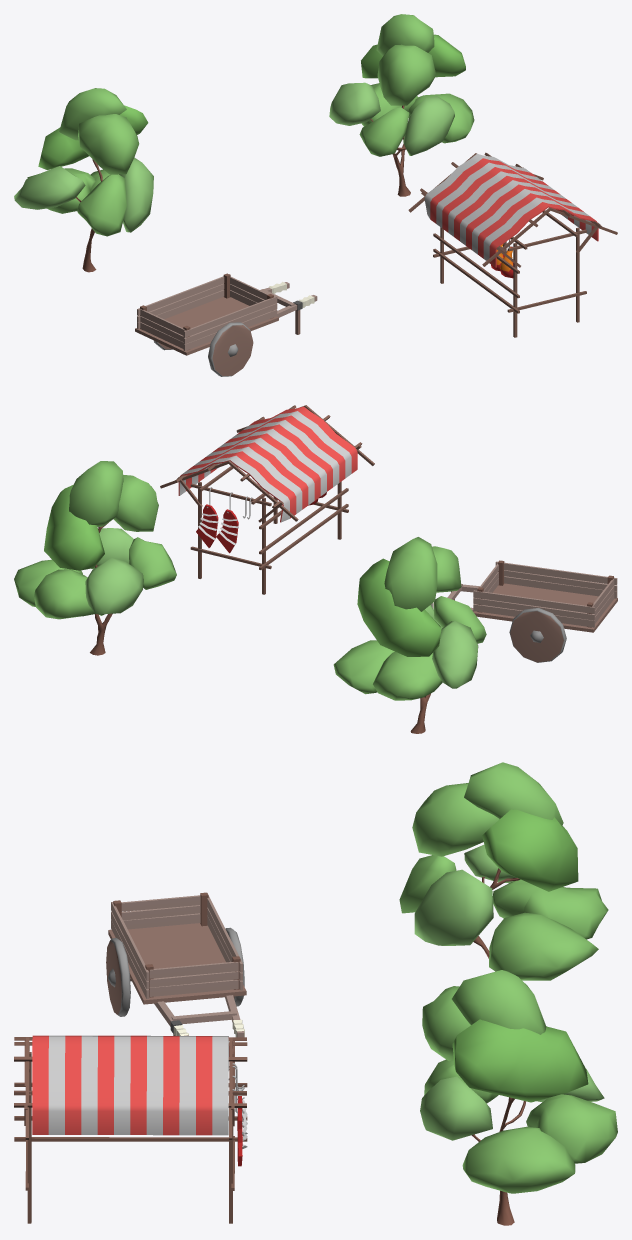
3 renders of one model, top to bottom at view 1: azimuth 30°, elevation 25°; view 2: azimuth 150°, elevation 25°; view 3: azimuth 270°, elevation 25°, orthographic. The views are drawn at different scales.
Parts seen in each view (by area): view 1: tree_001, tree_001.001, stall_001, cart_001; view 2: tree_001.001, tree_001, stall_001, cart_001; view 3: tree_001.001, tree_001, stall_001, cart_001.
Boxes of the visible parts, x1,y1,x2,y2 form: tree_001: (329,14,474,196); tree_001.001: (14,88,153,272); stall_001: (408,152,617,337); cart_001: (135,273,317,376); tree_001.001: (333,537,486,733); tree_001: (14,461,176,655); stall_001: (160,405,374,594); cart_001: (431,560,617,662); tree_001.001: (399,762,608,980); tree_001: (420,970,617,1225); stall_001: (14,1035,247,1223); cart_001: (106,892,246,1037).
Size of the model in its own units: 0.8412 by 0.3299 by 0.7175.
3 materials, 3 textured.
